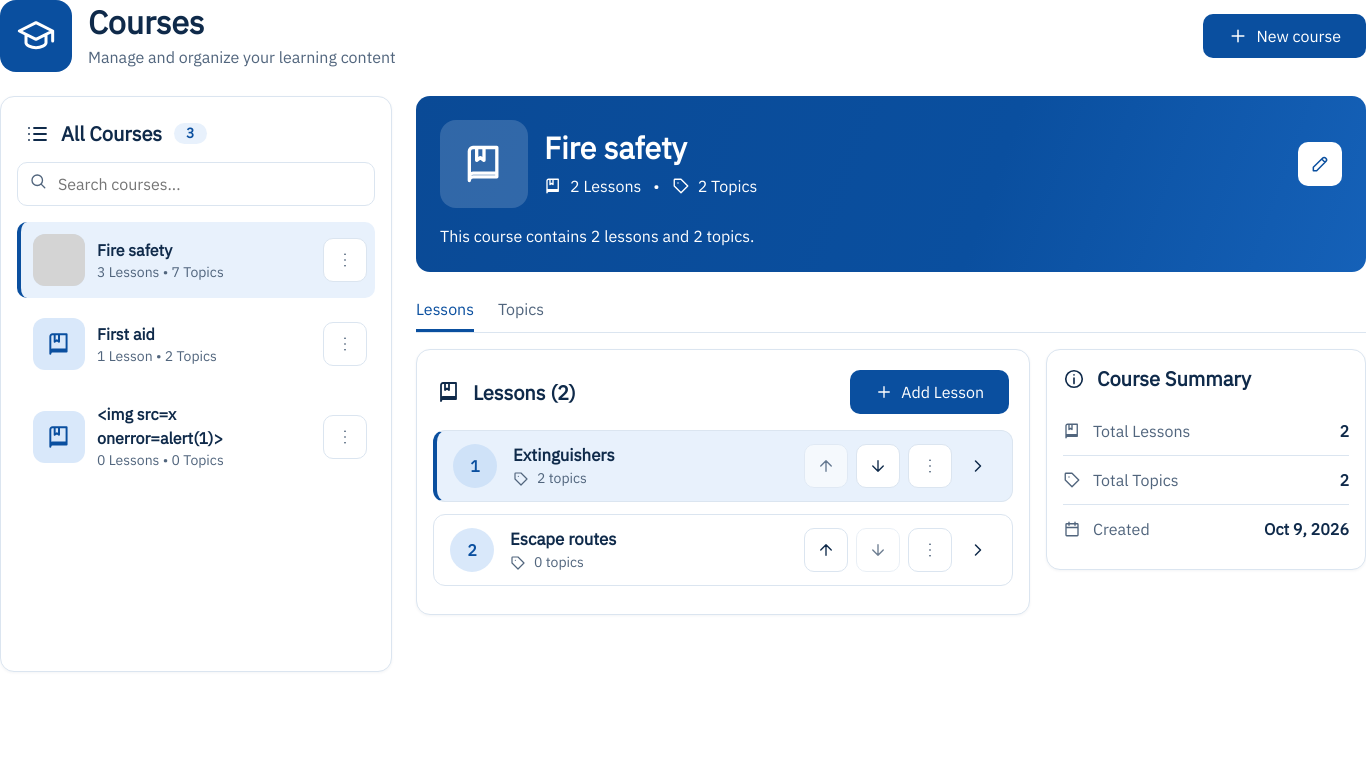
Scenario: CoursesPage › creates a course from a trimmed title and a description, and shows it
The image size is (1366, 768).
Click the button "New course" at (1285, 36), box [1204, 14, 1365, 58]
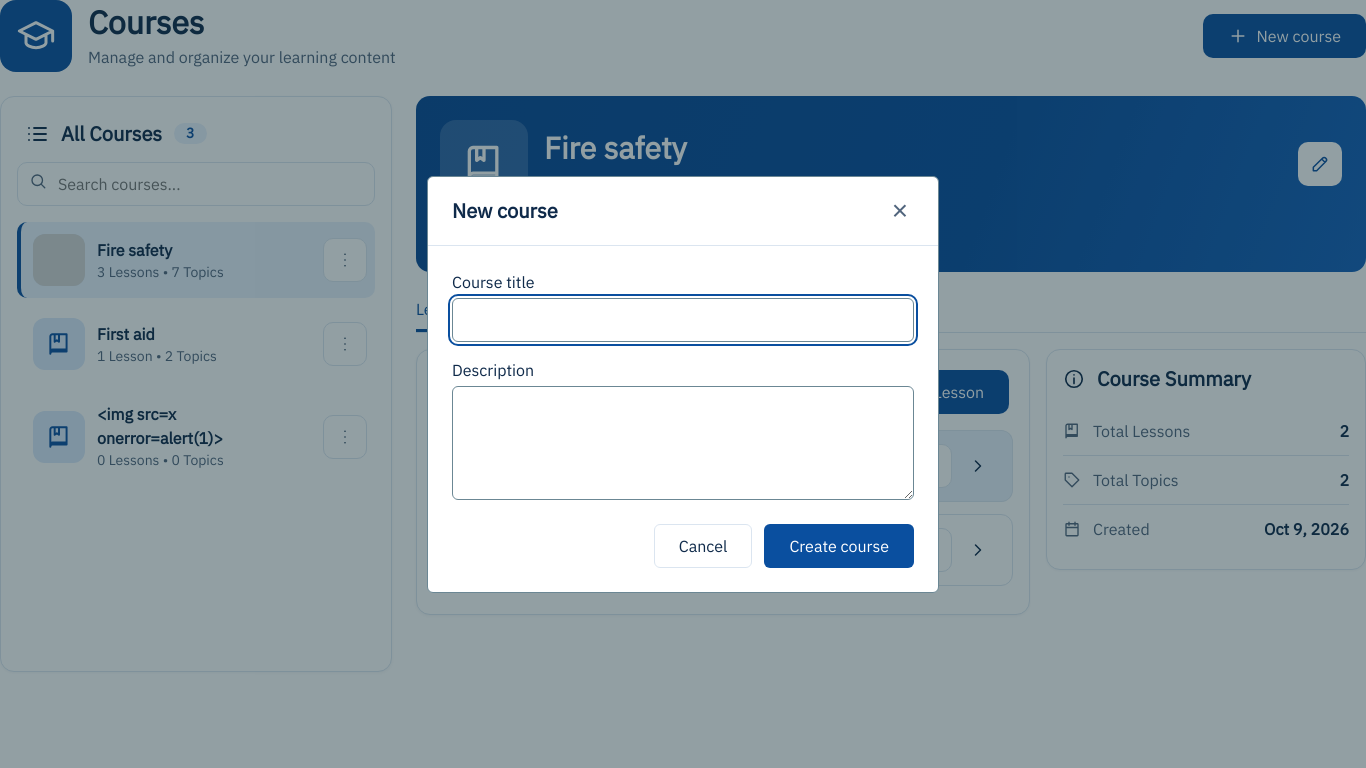
Type "  Orientation " into the field labelled "Course title" at (683, 320), box [452, 298, 914, 342]
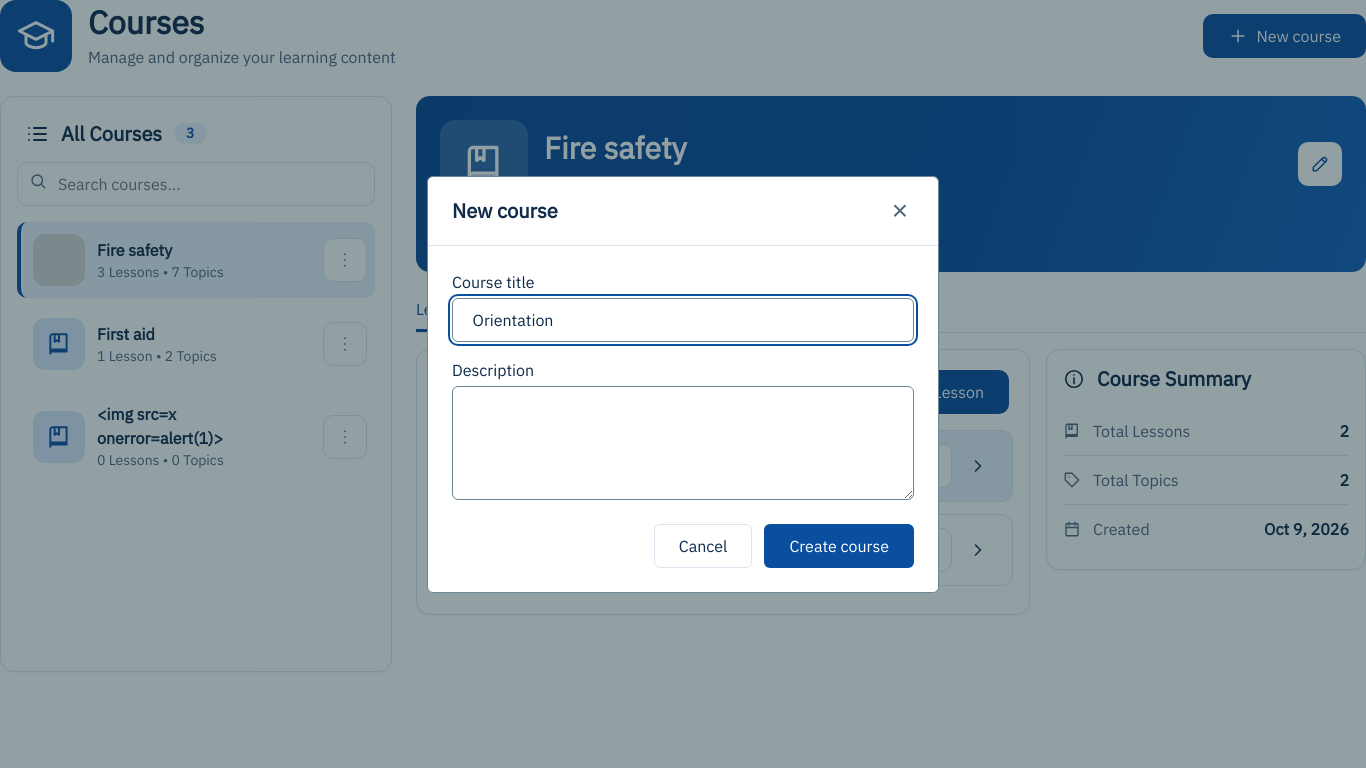
Type "Your first week." into the text box labelled "Description" at (683, 442), box [452, 386, 914, 500]
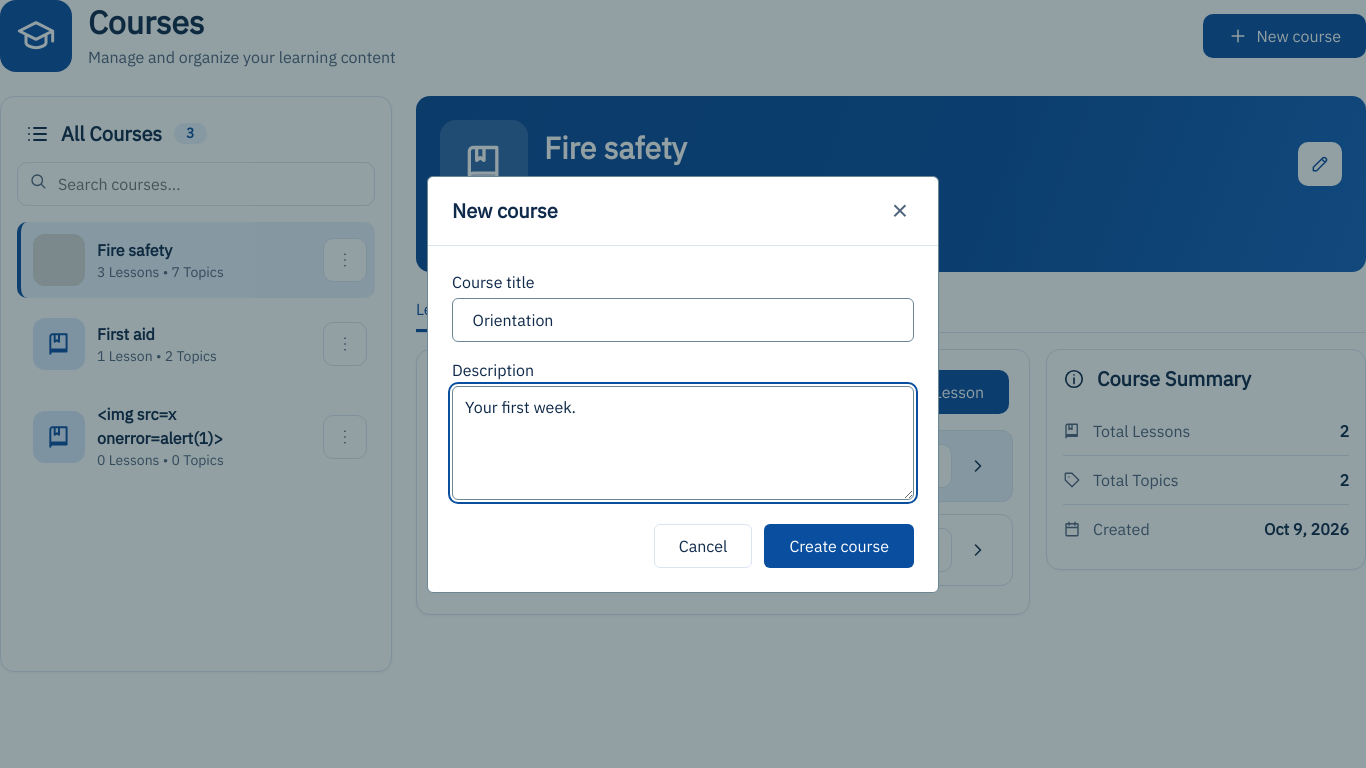
Click the button "Create course" at (839, 546), box [764, 524, 914, 568]
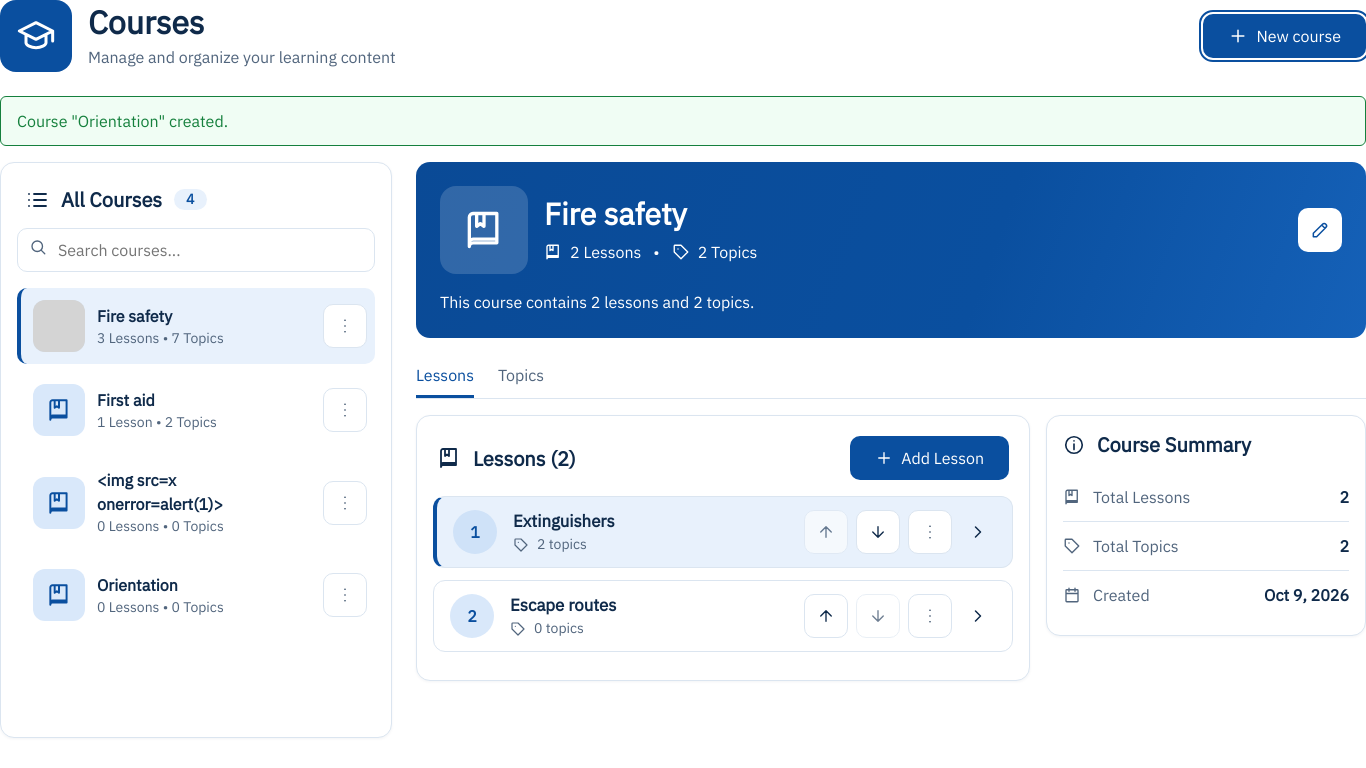
expect the text "Course \"Orientation\" created." is shown: met, box [0, 96, 1365, 146]
expect the button "Orientation 0 Lessons • 0 Topics" is shown: met, box [21, 557, 315, 633]
